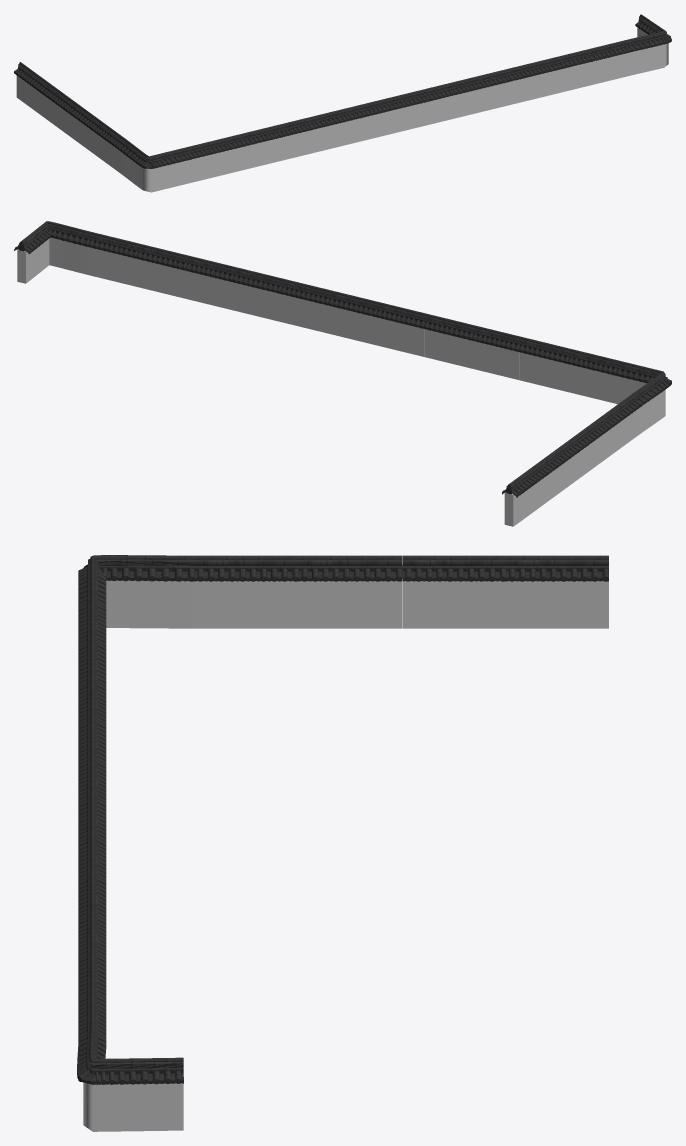
File: SM_JSH_HG_StoneWallH_Splines_9.fbx
The picture shows the model from 3 angles, top to bottom: view 1: azimuth 30°, elevation 25°; view 2: azimuth 150°, elevation 25°; view 3: azimuth 270°, elevation 25°; orthographic projection. The views are drawn at different scales.
Parts seen in each view (by area): view 1: SM_JSH_HG_StoneWallH_Splines_9; view 2: SM_JSH_HG_StoneWallH_Splines_9; view 3: SM_JSH_HG_StoneWallH_Splines_9.
Boxes of the visible parts, x1,y1,x2,y2 form: SM_JSH_HG_StoneWallH_Splines_9: [14, 14, 671, 192]; SM_JSH_HG_StoneWallH_Splines_9: [14, 221, 671, 526]; SM_JSH_HG_StoneWallH_Splines_9: [77, 555, 608, 1131].
Bounding box in the file's own units: 2851 × 1242 × 178.
